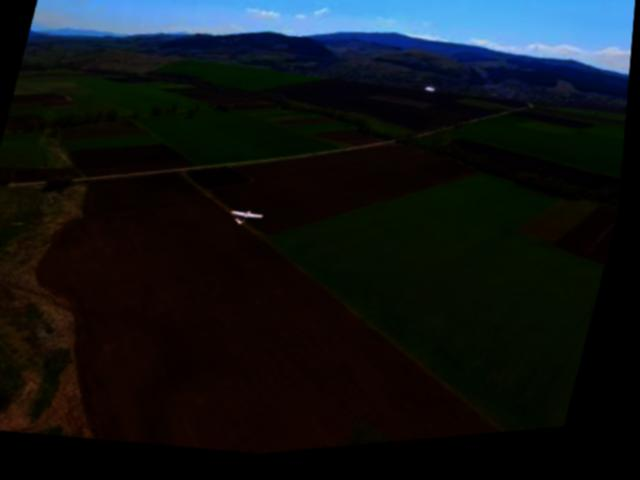uav: (225, 200, 275, 242)
